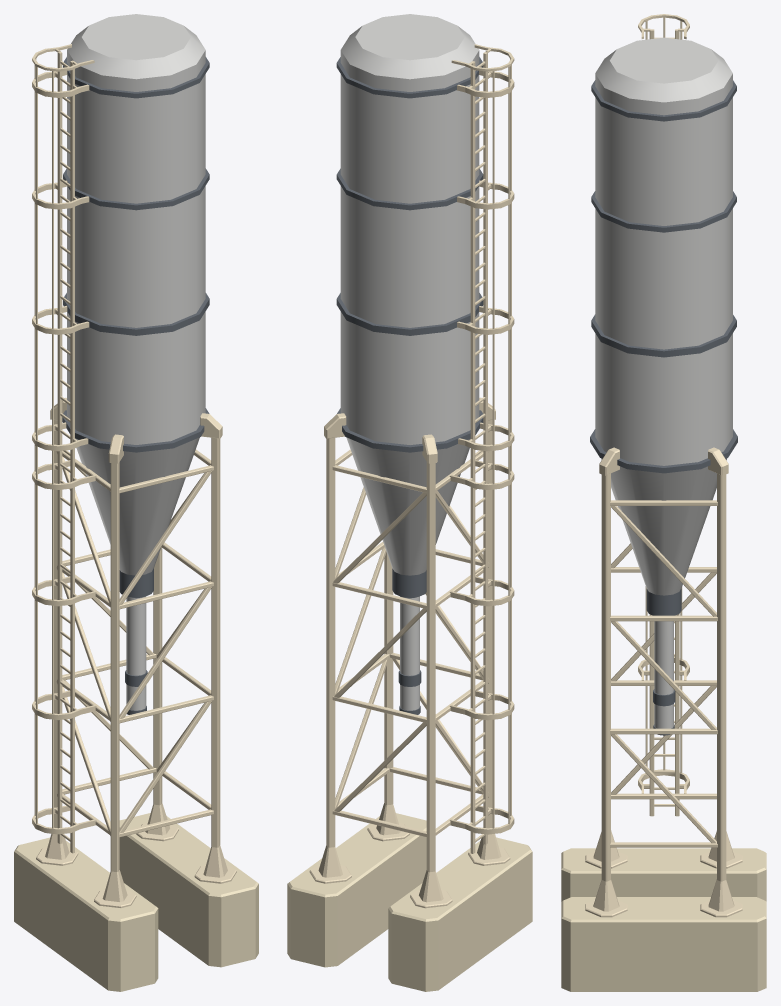
Rendered from farmstractures_28.gltf.
3 renders of one model, left to right at view 1: azimuth 30°, elevation 25°; view 2: azimuth 150°, elevation 25°; view 3: azimuth 270°, elevation 25°, orthographic.
Parts seen in each view (by area): view 1: body, blades; view 2: body, blades; view 3: body, blades.
Boxes of the visible parts, x1,y1,x2,y2 form: body: [14, 14, 258, 991]; blades: [34, 52, 74, 853]; body: [287, 14, 532, 991]; blades: [470, 53, 511, 853]; body: [561, 14, 766, 991]; blades: [645, 17, 682, 816].
Bounding box in the file's own units: 2.93 × 14.32 × 2.98.
1 material, 1 textured.
